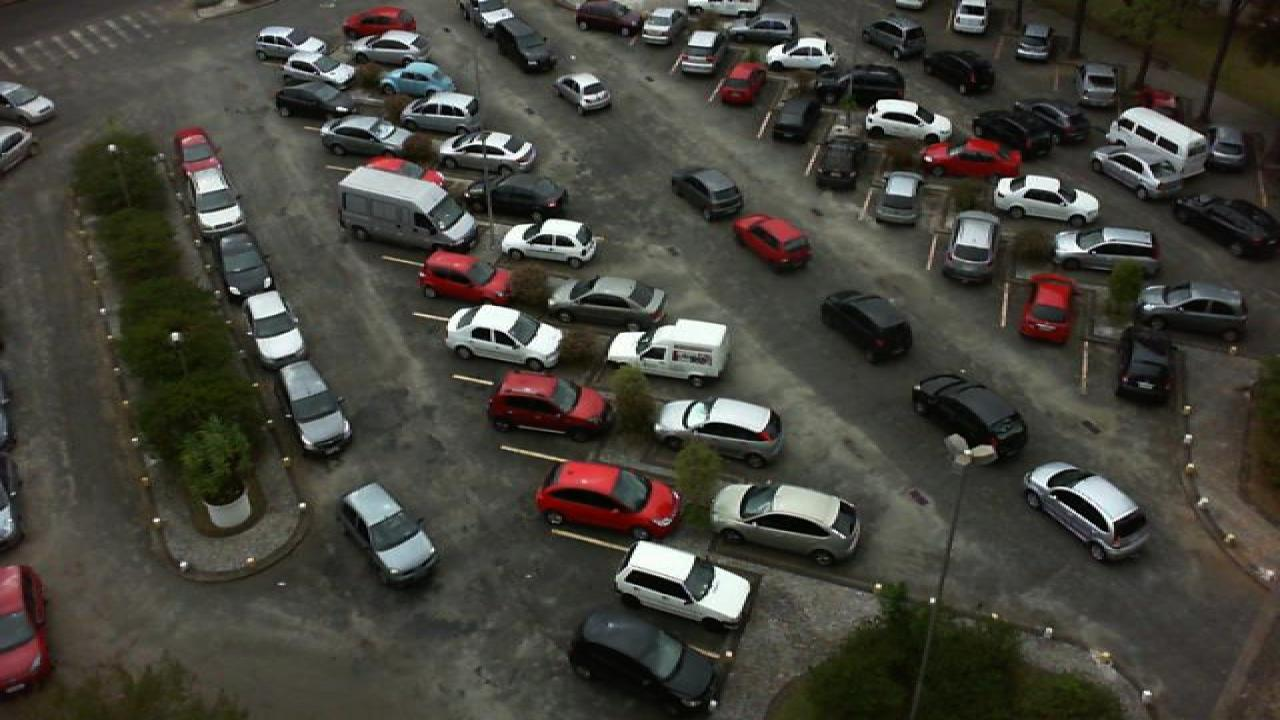Car: (566, 606, 726, 716), (1020, 463, 1154, 562), (706, 479, 862, 564), (612, 540, 756, 631), (534, 460, 684, 542), (338, 169, 480, 253), (336, 481, 440, 588), (908, 374, 1032, 463), (652, 396, 784, 470), (604, 317, 730, 388), (484, 370, 612, 437), (272, 361, 356, 458), (442, 304, 566, 369), (1132, 281, 1252, 342), (1104, 105, 1208, 172), (1172, 194, 1280, 258), (0, 564, 52, 696), (546, 276, 668, 332), (820, 290, 916, 361), (1052, 224, 1166, 280), (990, 172, 1104, 226), (236, 289, 310, 368), (1090, 150, 1194, 202), (1114, 324, 1180, 405), (418, 250, 516, 304), (438, 127, 536, 177), (940, 210, 1006, 284), (730, 213, 814, 270), (500, 220, 602, 266), (920, 136, 1026, 180), (474, 174, 568, 223), (1016, 272, 1078, 346), (668, 166, 744, 222), (862, 97, 954, 143), (318, 115, 416, 158), (216, 230, 276, 298), (488, 16, 558, 73), (970, 108, 1060, 152), (190, 170, 248, 236), (402, 90, 478, 136), (274, 82, 366, 120), (924, 49, 998, 96), (1012, 99, 1090, 142), (818, 130, 870, 192), (172, 125, 230, 180), (870, 171, 926, 225), (378, 60, 460, 96), (348, 32, 430, 68), (252, 26, 326, 64), (848, 61, 906, 109), (764, 36, 838, 73), (282, 53, 360, 88), (714, 60, 768, 108), (574, 0, 648, 35), (770, 96, 826, 142), (554, 70, 612, 114), (340, 6, 420, 37), (674, 28, 722, 78), (1204, 124, 1252, 172), (734, 10, 798, 44), (1076, 62, 1118, 109), (640, 6, 684, 45), (1014, 23, 1052, 63), (950, 0, 988, 37), (894, 0, 930, 30)
